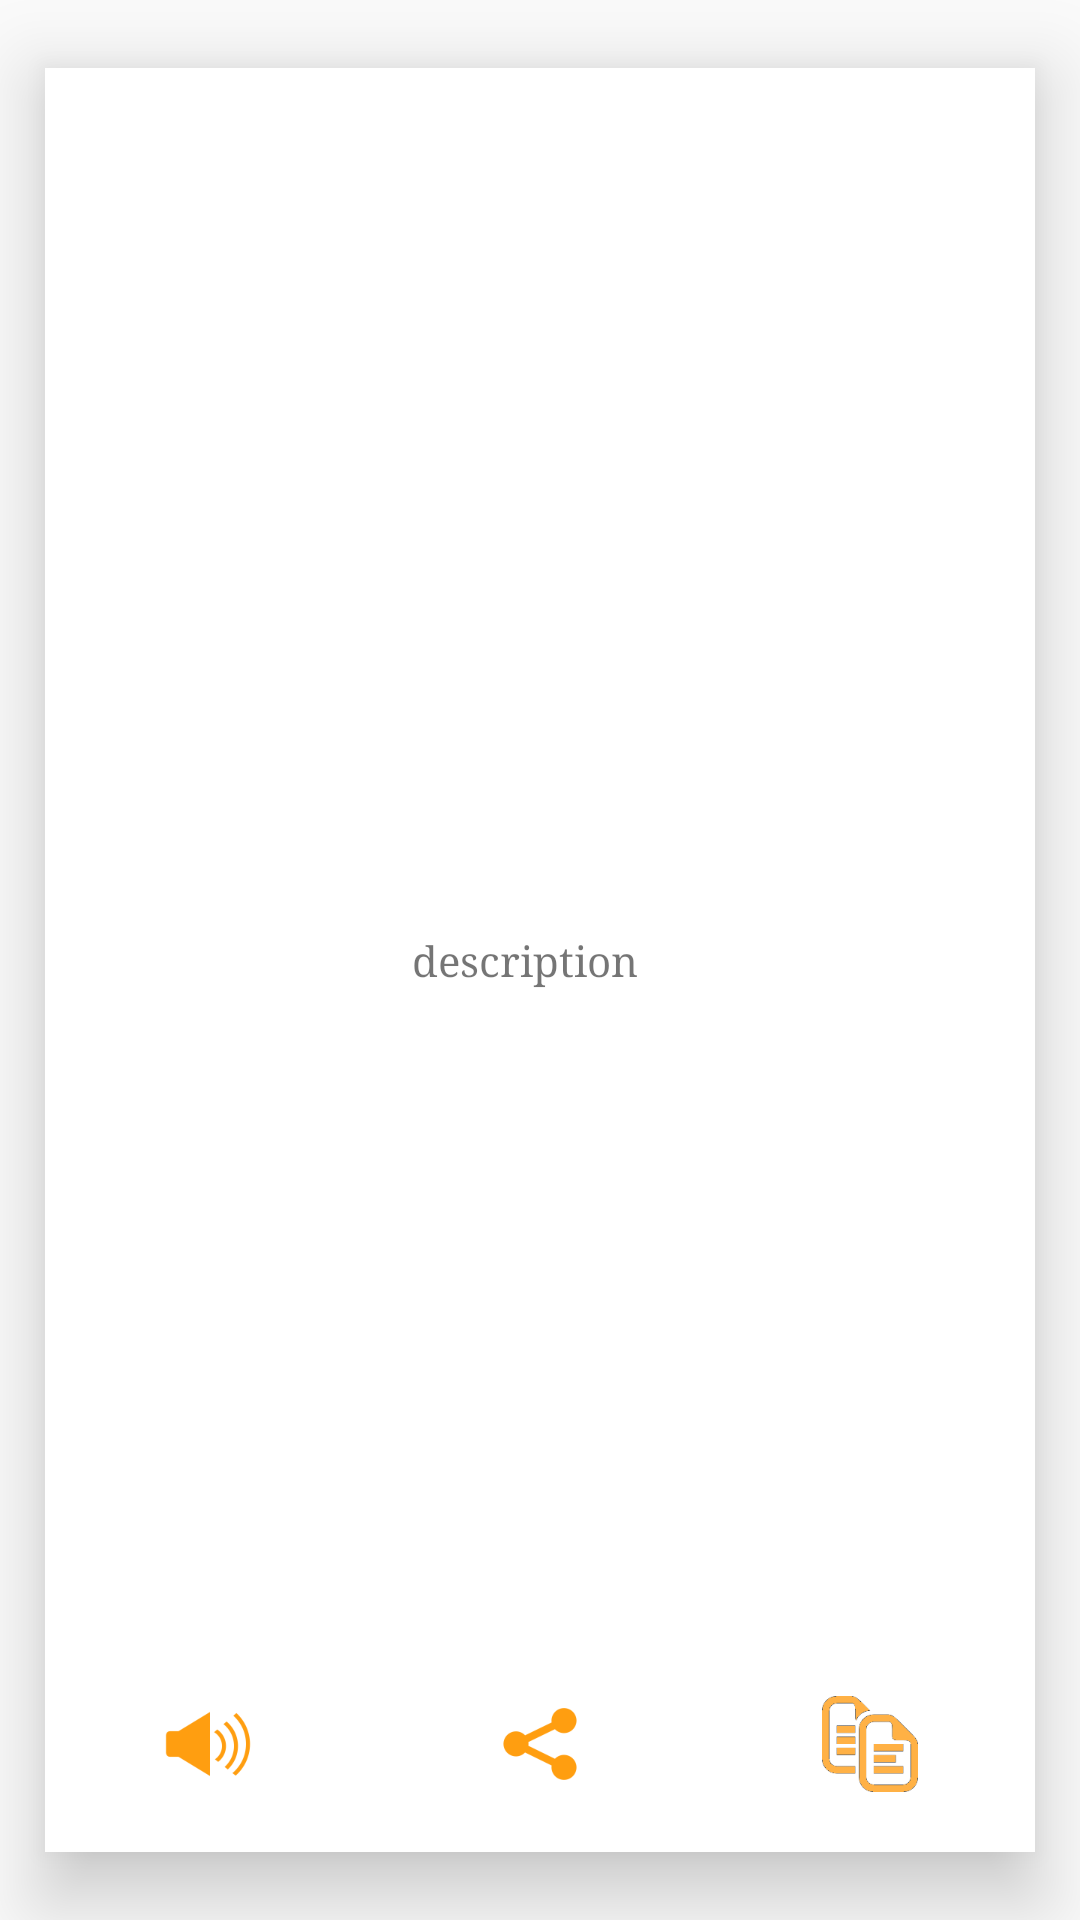

Icons on this 1080 × 1920 Android screen, each with its box as bbox(x1, y1, x2, y2):
share: bbox(503, 1708, 577, 1780)
speak orng: bbox(165, 1712, 251, 1776)
